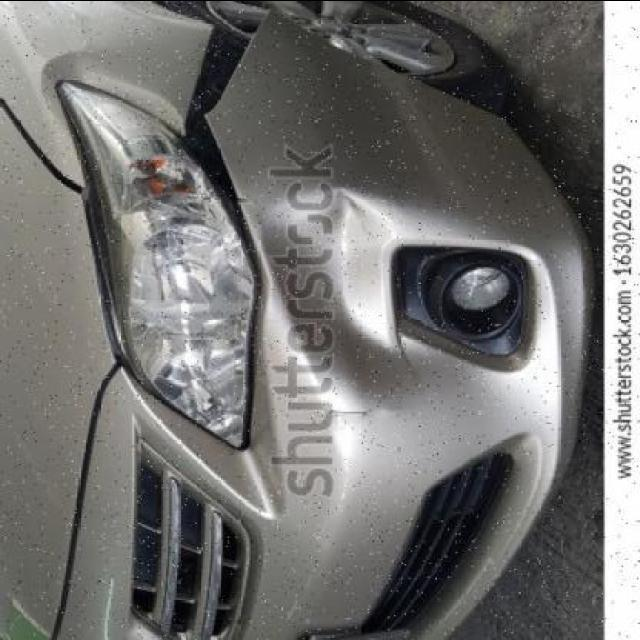fender-dent: (0, 0, 252, 191)
front-bumper-dent: (206, 2, 566, 640)
